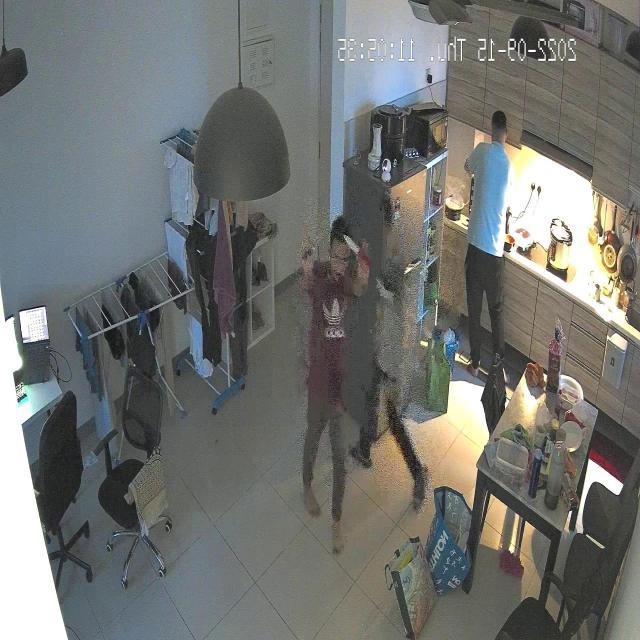Knife: (342, 236, 372, 267)
